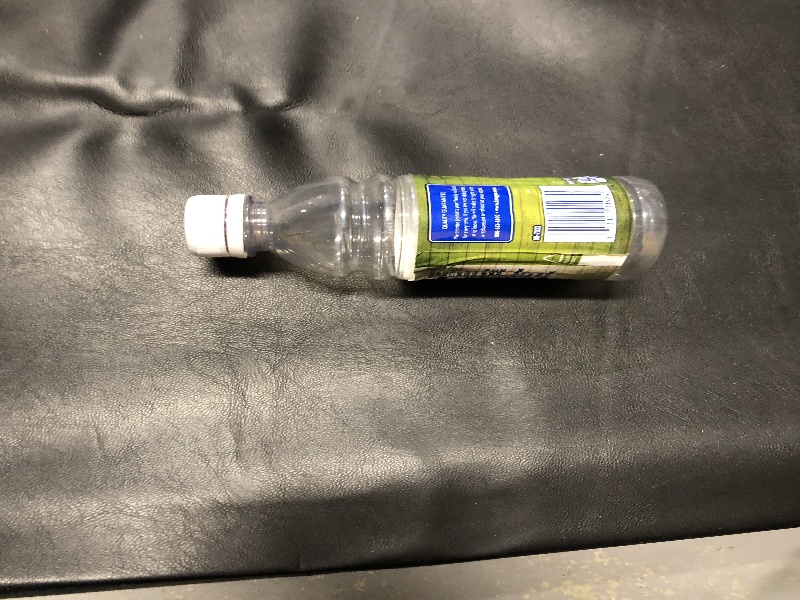plastic: (176, 157, 683, 306)
